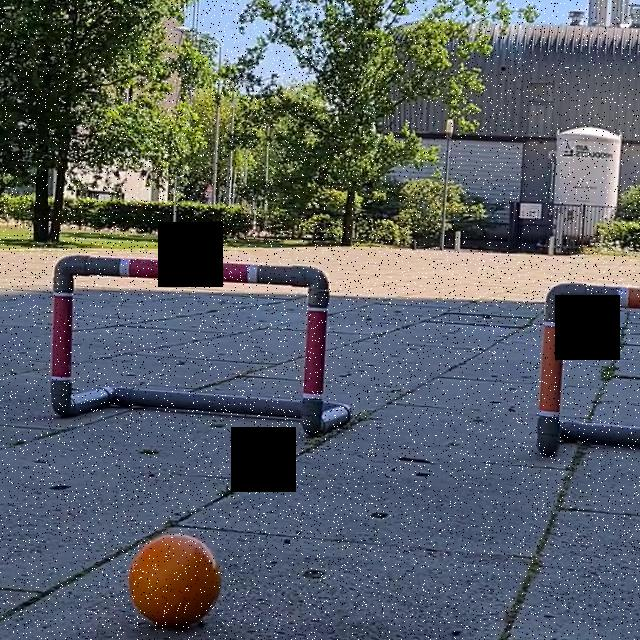ball: (124, 532, 225, 627)
